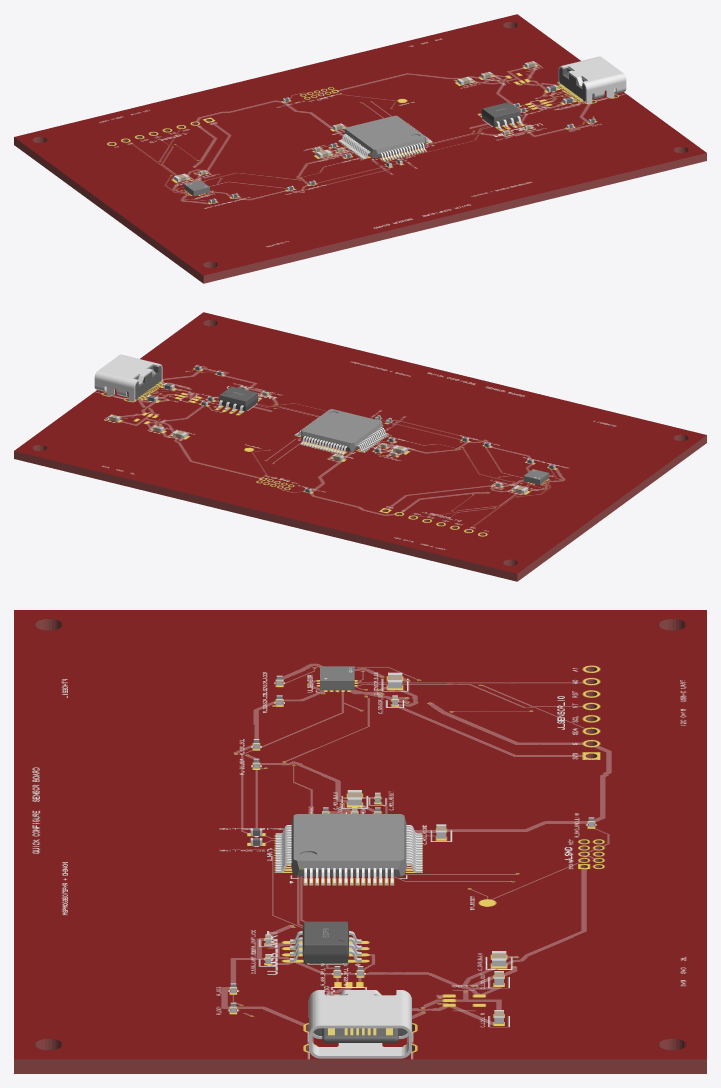
3 renders of one model, top to bottom at view 1: azimuth 30°, elevation 25°; view 2: azimuth 150°, elevation 25°; view 3: azimuth 270°, elevation 25°, orthographic. The views are drawn at different scales.
Visible parts, largest first — view 1: Box0, U_MAIN, J_USB, U_USB_UART; view 2: Box0, U_MAIN, J_USB, U_USB_UART; view 3: Box0, U_MAIN, J_USB, U_USB_UART, U_SENSOR.
Boxes of the visible parts, x1,y1,x2,y2 form: Box0: (14,14,706,283); U_MAIN: (338,115,432,161); J_USB: (558,56,626,103); U_USB_UART: (480,102,522,129); Box0: (14,312,706,581); U_MAIN: (294,409,388,454); J_USB: (94,354,162,401); U_USB_UART: (217,386,259,413); Box0: (14,610,706,1073); U_MAIN: (275,814,422,885); J_USB: (309,990,411,1058); U_USB_UART: (290,921,361,963); U_SENSOR: (320,666,354,690).
Bounding box in the file's own units: 92.04 × 4.65 × 60.
Materials: 19 (2 with a texture image).
